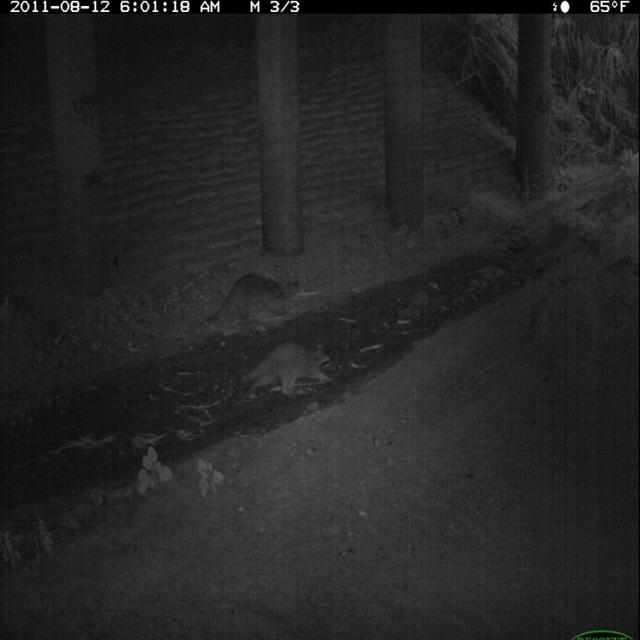raccoon: (237, 337, 339, 402), (201, 269, 291, 337)
